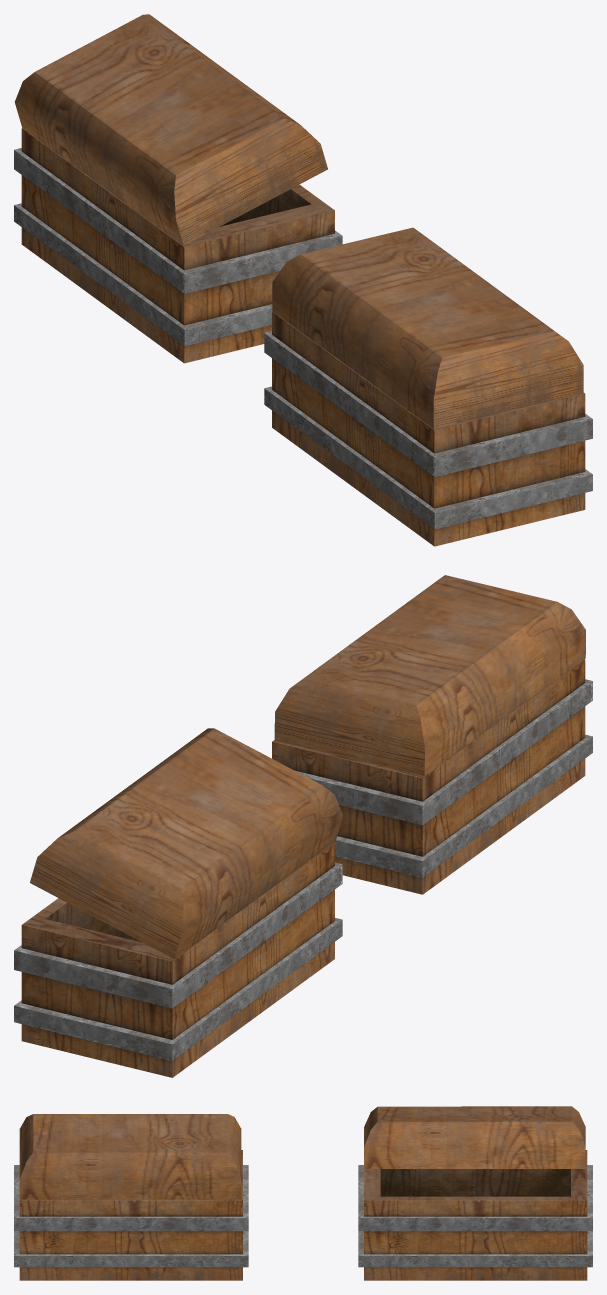
The model's file is Chest_Final.fbx.
The picture shows the model from 3 angles, top to bottom: view 1: azimuth 30°, elevation 25°; view 2: azimuth 150°, elevation 25°; view 3: azimuth 270°, elevation 25°; orthographic projection. The views are drawn at different scales.
Parts seen in each view (by area): view 1: Lid, Box1, Lid1, Box; view 2: Box, Lid, Lid1, Box1; view 3: Box, Box1, Lid1, Lid.
Boxes of the visible parts, x1,y1,x2,y2 form: Lid: (14, 14, 327, 245); Box1: (264, 311, 592, 546); Lid1: (272, 227, 583, 428); Box: (14, 128, 342, 363); Box: (14, 842, 342, 1077); Lid: (30, 728, 342, 959); Lid1: (274, 575, 585, 776); Box1: (272, 659, 592, 894); Box: (358, 1150, 592, 1280); Box1: (14, 1150, 248, 1280); Lid1: (19, 1114, 241, 1199); Lid: (364, 1106, 585, 1168).
Bounding box in the file's own units: 5.41 × 6.7 × 24.2.
